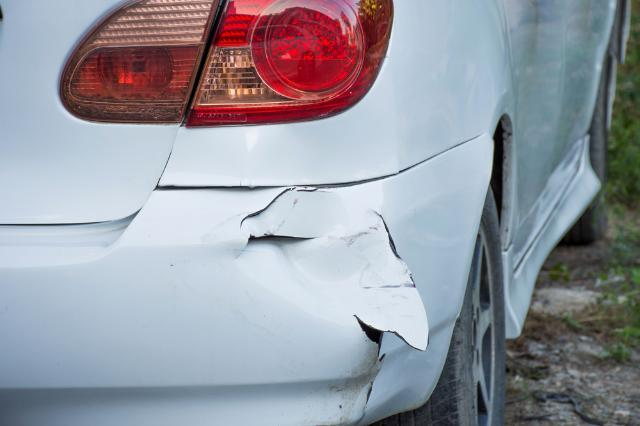crack: (236, 187, 323, 262), (355, 316, 385, 357), (375, 213, 399, 260)
dent: (240, 192, 392, 323)
